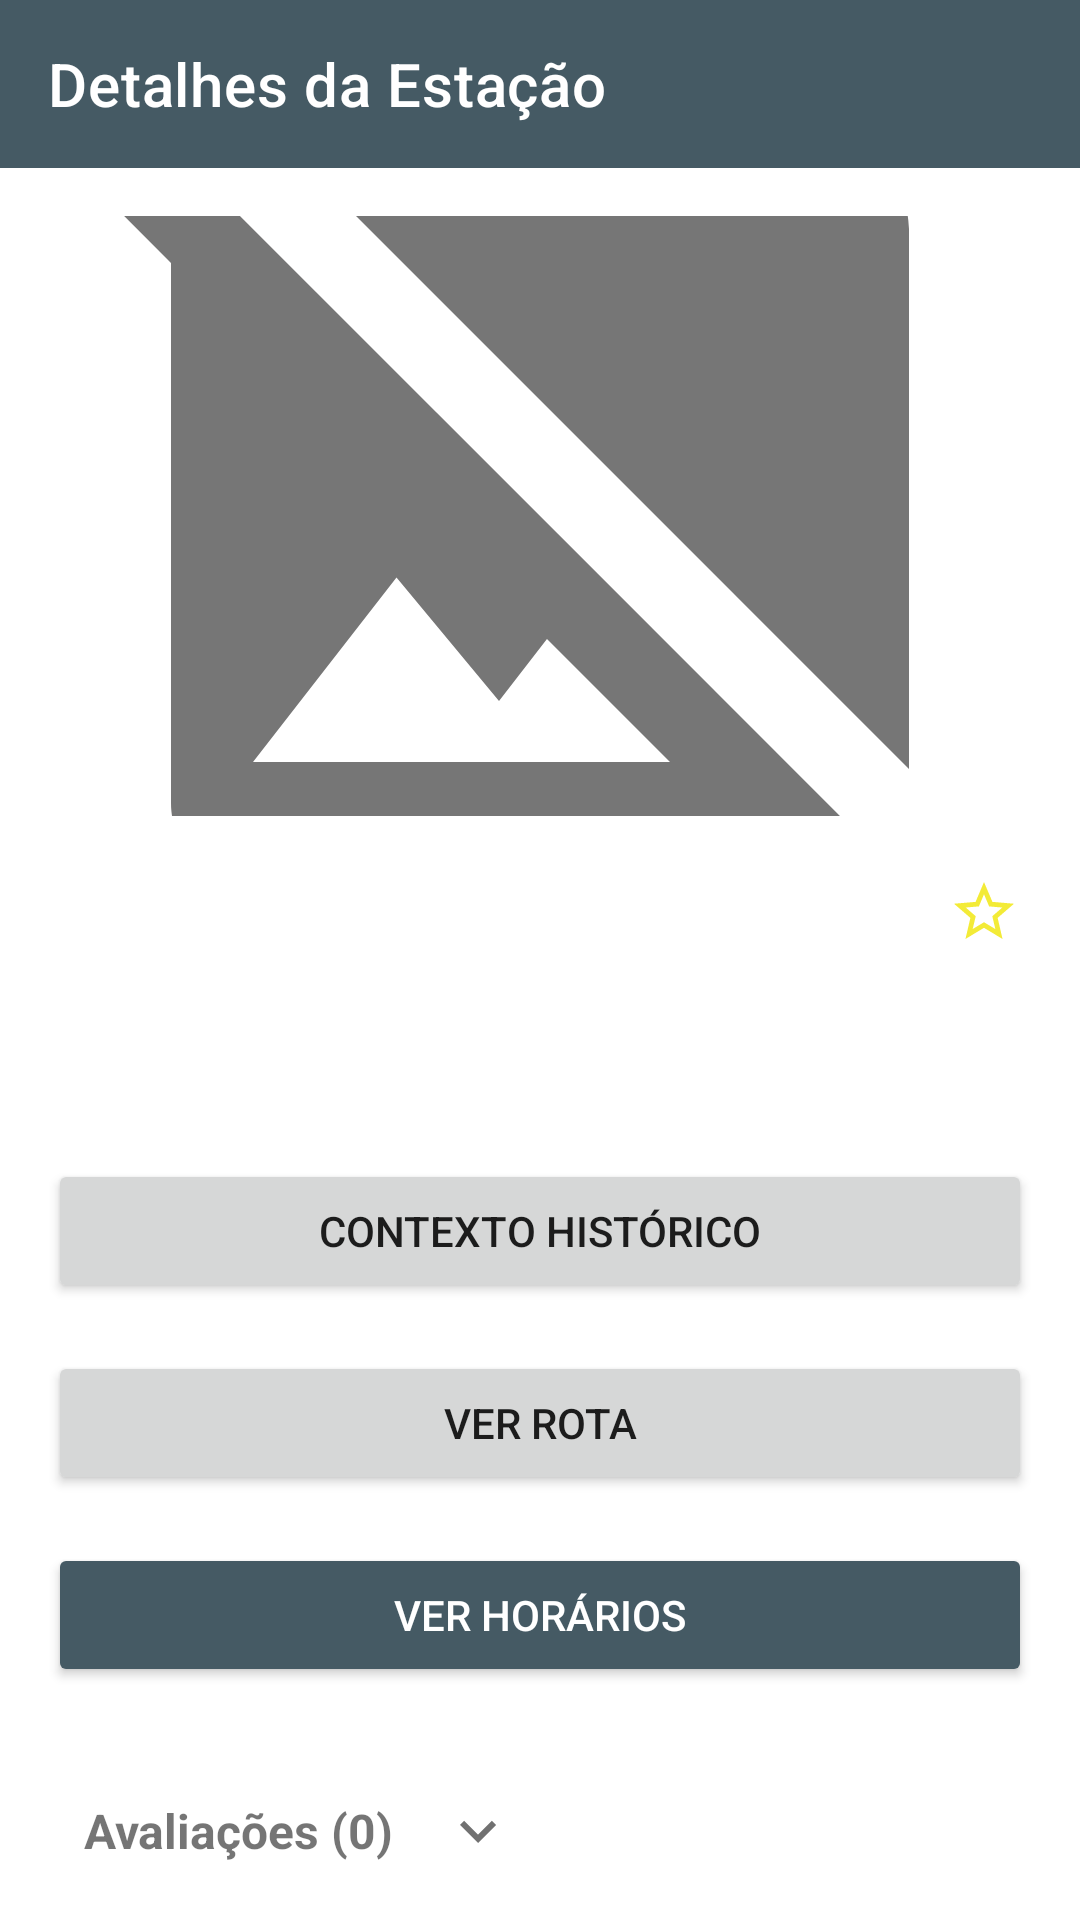

Locate icon controls on the screen. Image size 1080*1920, boxes as (x1, y1, x2, y2).
arrow down: (460, 1821, 496, 1843)
Favorito: (954, 882, 1014, 939)
